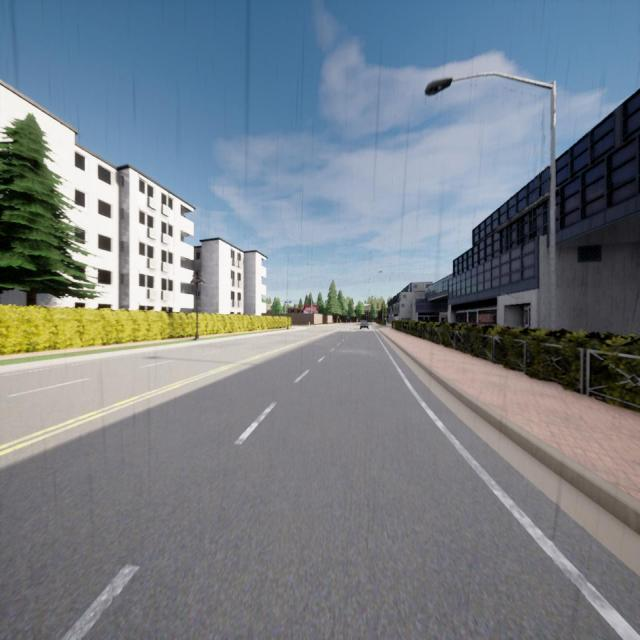Vehicle: (360, 320, 369, 330)
